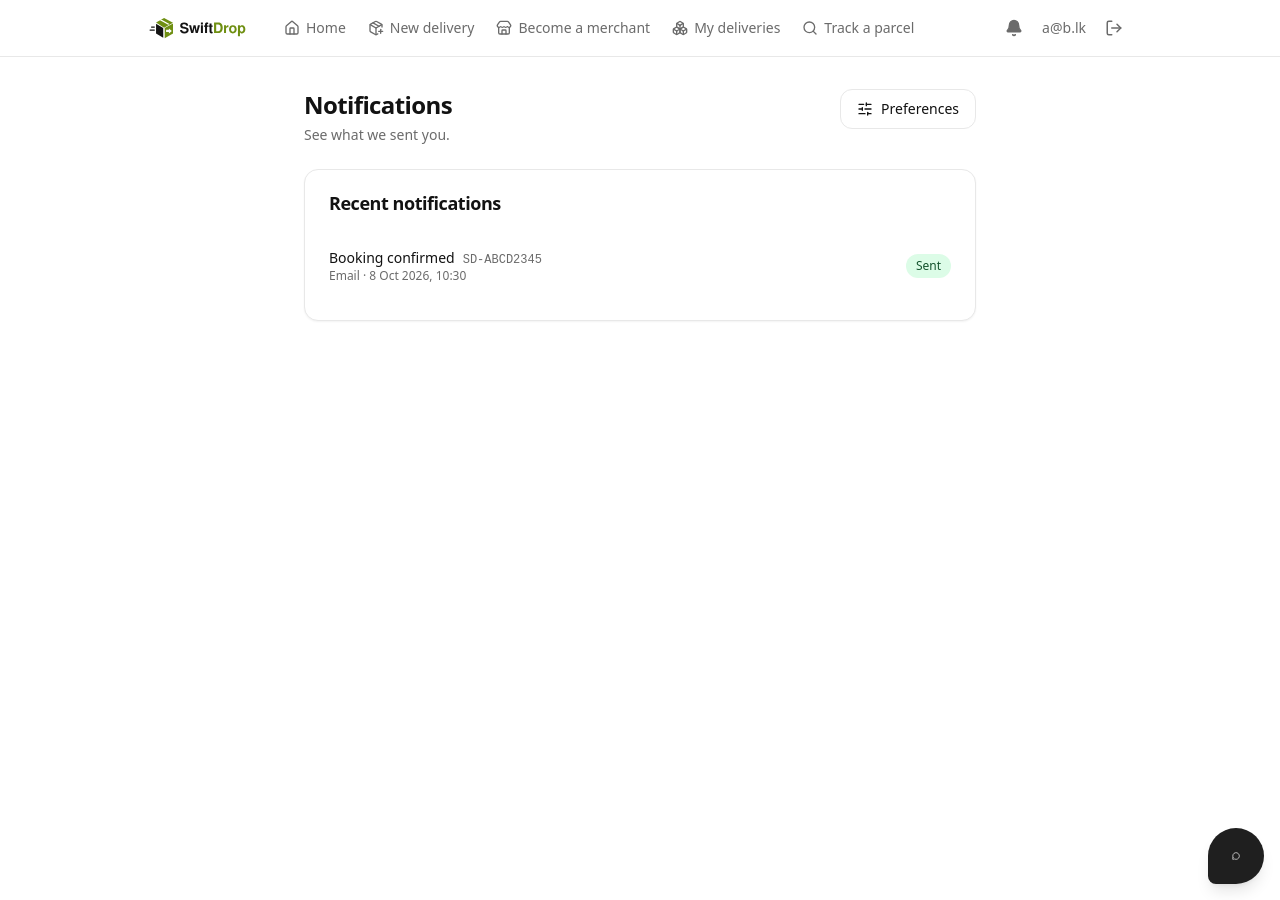
notification preferences › only enables Save when something changed, and sends the full new set
What coordinates should you click on to do the following:
click the button "Preferences"
I would click on:
 (908, 109)
Its box is [840,89,976,129].
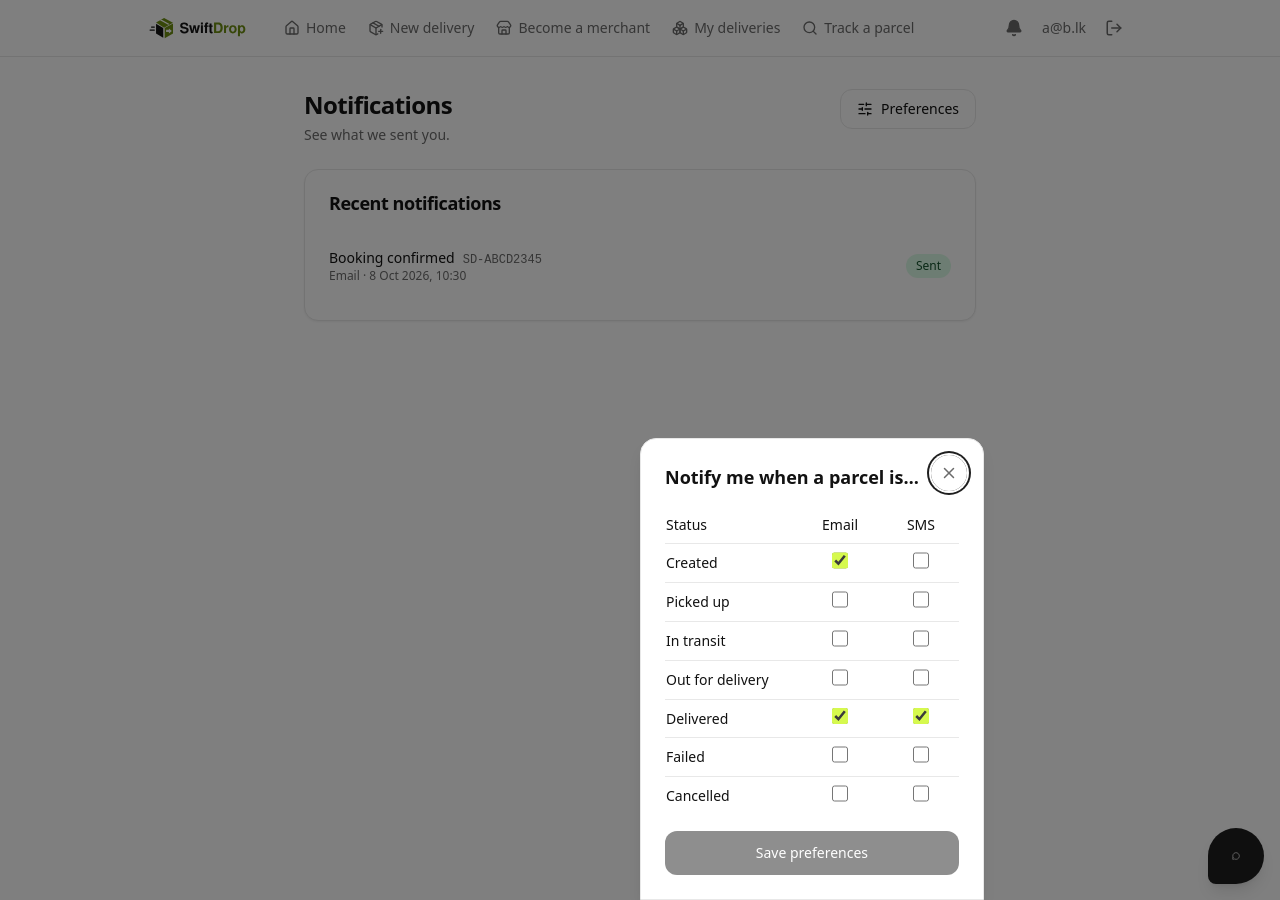
Expected: the checkbox named "Email when created" is shown, [832,552,848,569]
Expected: the button "Save preferences" is disabled, [665,831,959,875]
What coordinates should you click on to do the following:
click the checkbox named "SMS when out for delivery"
I would click on:
 (921, 677)
Its box is [912,669,929,686].
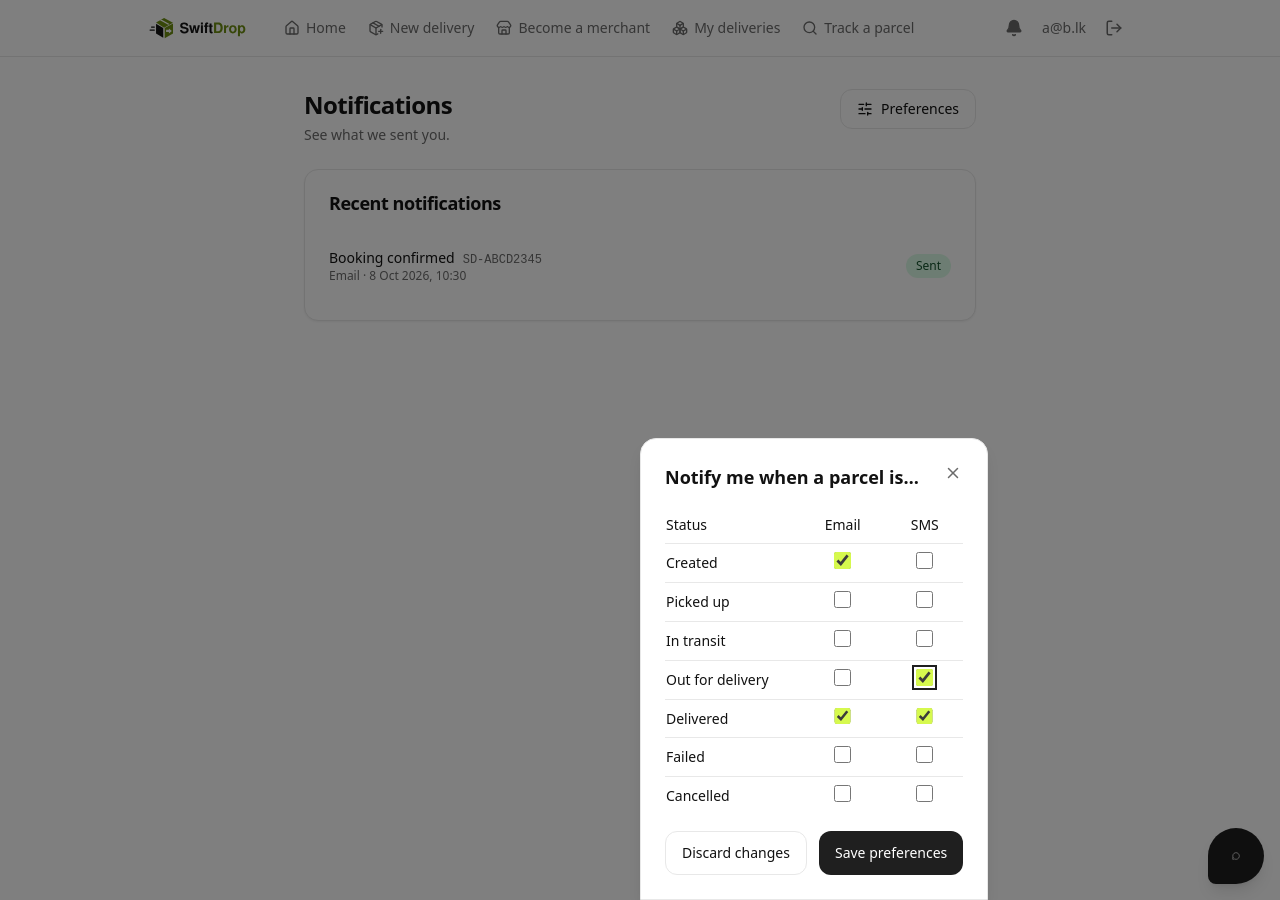
Expected: the button "Save preferences" is enabled
What coordinates should you click on to do the following:
click the button "Save preferences"
I would click on:
 (891, 853)
Its box is [819,831,963,875].
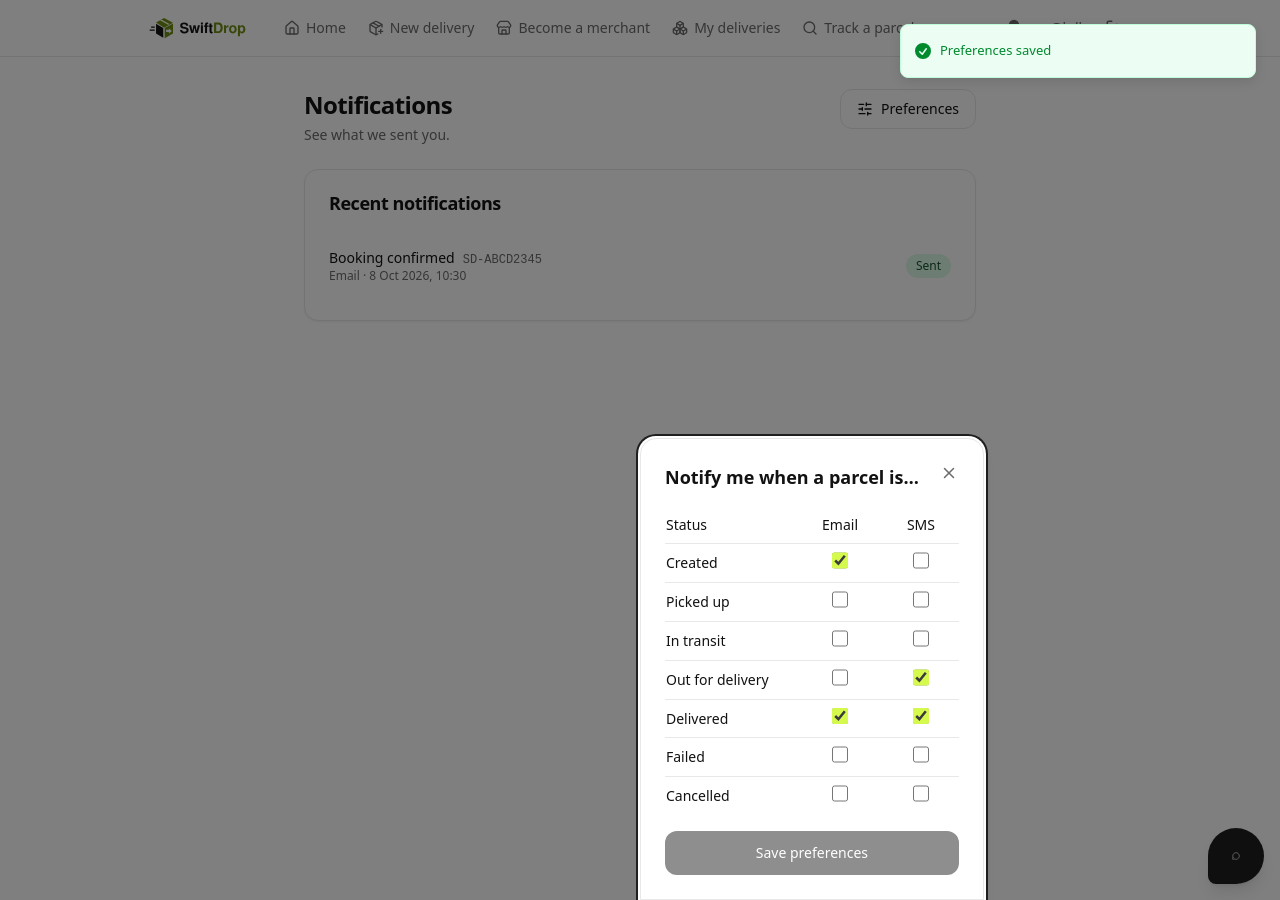
Expected: the text "Preferences saved" is shown, [940,41,1051,60]
Expected: the button "Save preferences" is disabled, [665,831,959,875]
